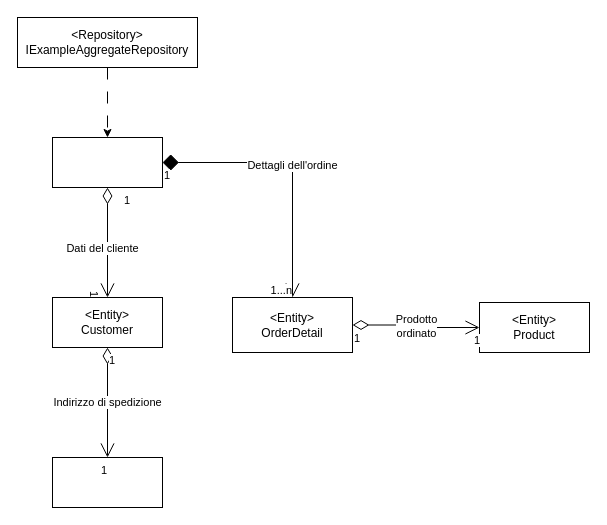
The diagram is 607 pixels wide and 525 high, and some of its shapes have lost their labels. Here are the shapes that lost their labels. From the top down, the centre of each, then its label:
At [107,162]: "<AggregateRoot> Order".
At [107,482]: "<ValueObject> ShipAddress".
